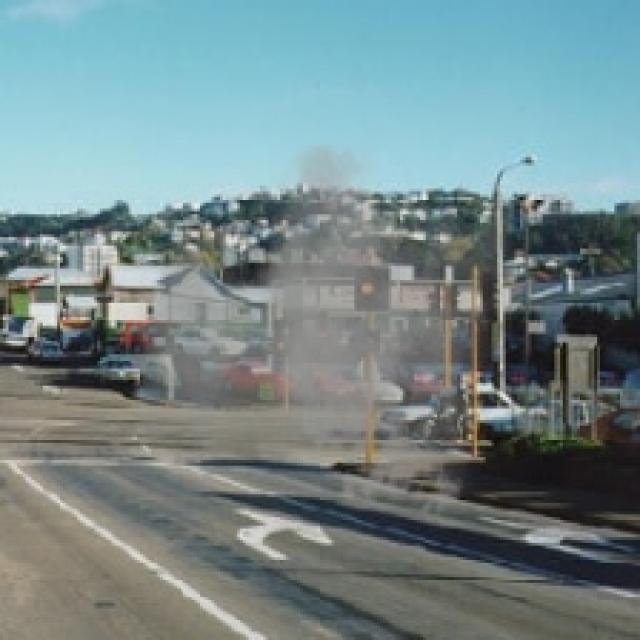smoke: (132, 126, 514, 528)
